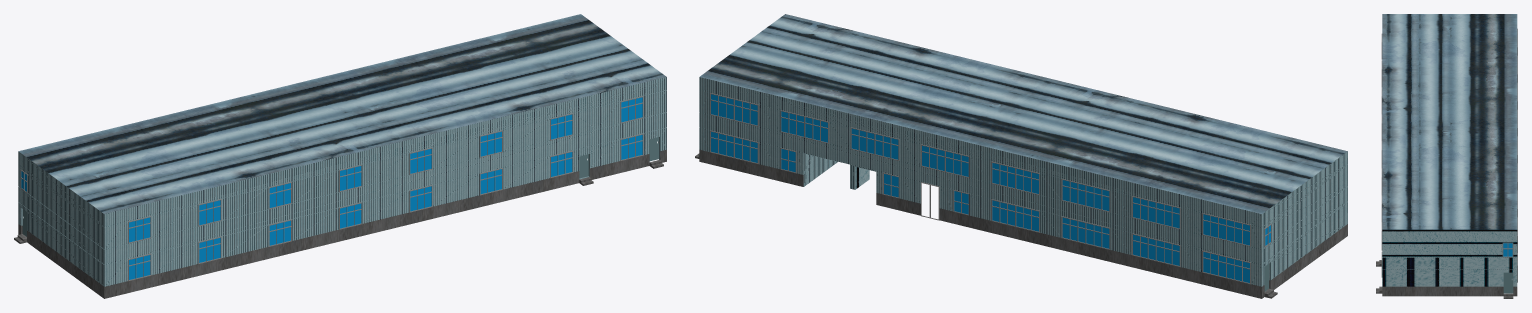
The model's file is changfang15.gltf.
The picture shows the model from 3 angles, left to right: view 1: azimuth 30°, elevation 25°; view 2: azimuth 150°, elevation 25°; view 3: azimuth 270°, elevation 25°; orthographic projection. The views are drawn at different scales.
Parts seen in each view (by area): view 1: gongchang15_33, gongchang15_9, gongchang15_30, gongchang15_4, gongchang15_5, gongchang15_6, gongchang15_28, gongchang15_29, gongchang15_55, gongchang15_56, gongchang15_2, gongchang15_3 (+5 smaller); view 2: gongchang15_33, gongchang15_38, gongchang15_17, gongchang15_19, gongchang15_60, gongchang15_22, gongchang15_25, gongchang15_52, gongchang15_23, gongchang15_54, gongchang15_16, gongchang15_58 (+16 smaller); view 3: gongchang15_33, gongchang15_44, gongchang15_1.
Part boxes in pixels (<box>): gongchang15_33: <box>18,14,666,298</box>; gongchang15_9: <box>479,130,502,157</box>; gongchang15_30: <box>339,202,362,229</box>; gongchang15_4: <box>479,168,502,195</box>; gongchang15_5: <box>550,151,573,178</box>; gongchang15_6: <box>550,113,573,140</box>; gongchang15_28: <box>268,182,291,209</box>; gongchang15_29: <box>268,219,291,246</box>; gongchang15_55: <box>128,253,151,281</box>; gongchang15_56: <box>198,199,221,226</box>; gongchang15_2: <box>128,216,151,243</box>; gongchang15_3: <box>620,133,643,161</box>; gongchang15_33: <box>700,14,1347,298</box>; gongchang15_38: <box>699,77,1261,298</box>; gongchang15_17: <box>1155,239,1180,267</box>; gongchang15_19: <box>1085,184,1110,212</box>; gongchang15_60: <box>991,161,1016,189</box>; gongchang15_22: <box>874,133,899,160</box>; gongchang15_25: <box>850,127,875,154</box>; gongchang15_52: <box>1061,216,1086,243</box>; gongchang15_23: <box>733,99,758,126</box>; gongchang15_54: <box>1155,201,1180,229</box>; gongchang15_16: <box>944,150,969,178</box>; gongchang15_58: <box>1131,196,1156,223</box>; gongchang15_33: <box>1382,14,1517,296</box>; gongchang15_44: <box>1503,272,1513,292</box>; gongchang15_1: <box>1502,242,1513,257</box>.
Size of the model in its own units: 498 by 70 by 135.
Materials: 6 (4 with a texture image).
